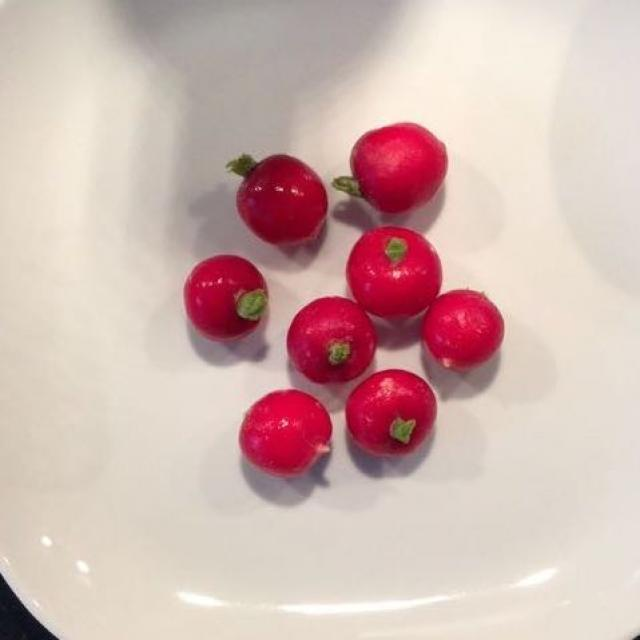radish: (188, 125, 502, 479)
